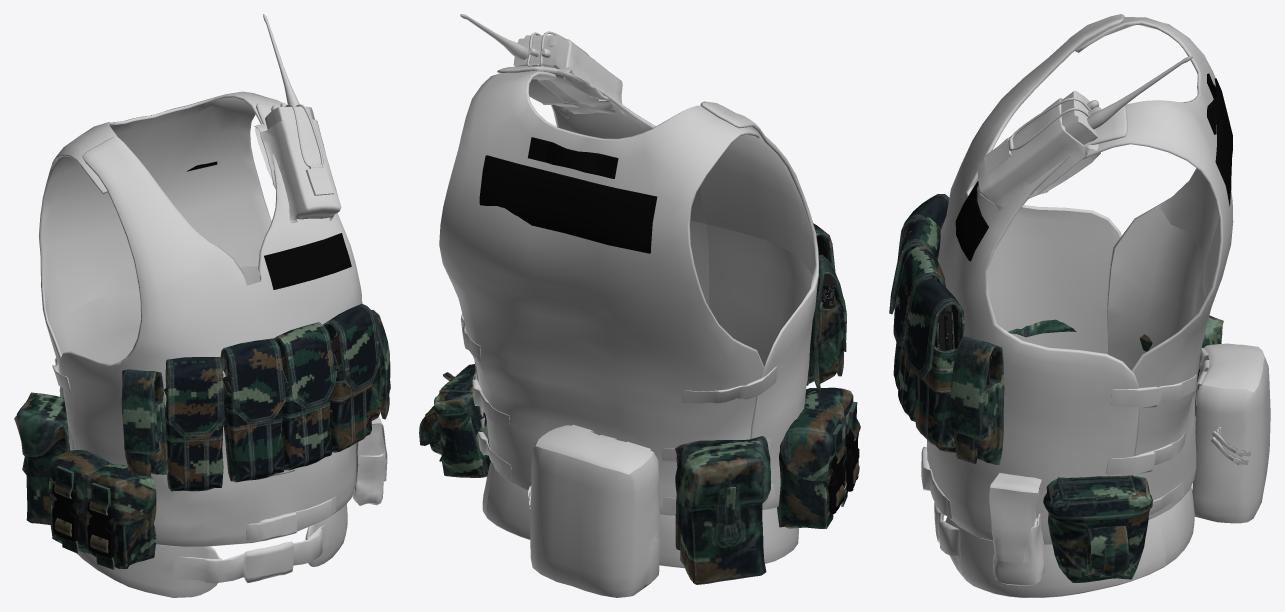
3 views of the same model, side by side, from view 1: azimuth 30°, elevation 25°; view 2: azimuth 150°, elevation 25°; view 3: azimuth 270°, elevation 25° (orthographic). The views are drawn at different scales.
Visible parts, largest first — view 1: 战术; view 2: 战术; view 3: 战术.
Part boxes in pixels (box(x1,y1,x2,y2)): 战术: box(14, 14, 390, 597); 战术: box(419, 14, 860, 597); 战术: box(889, 14, 1270, 597).
Size of the model in its own units: 48.18 by 64.46 by 40.74.
